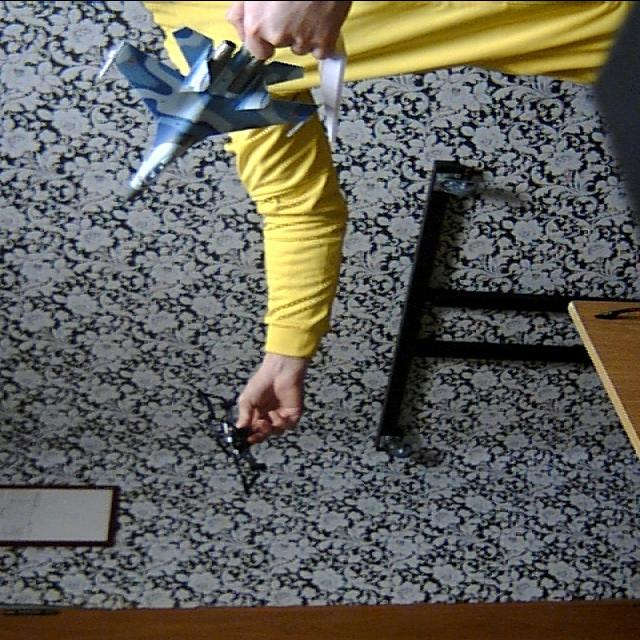drone: (184, 378, 269, 516)
